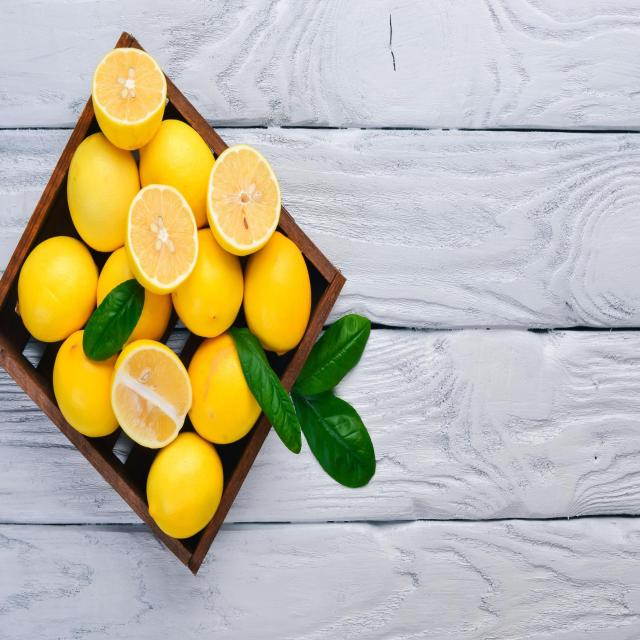lemon: (106, 334, 194, 450), (202, 142, 284, 260), (121, 180, 200, 299)
